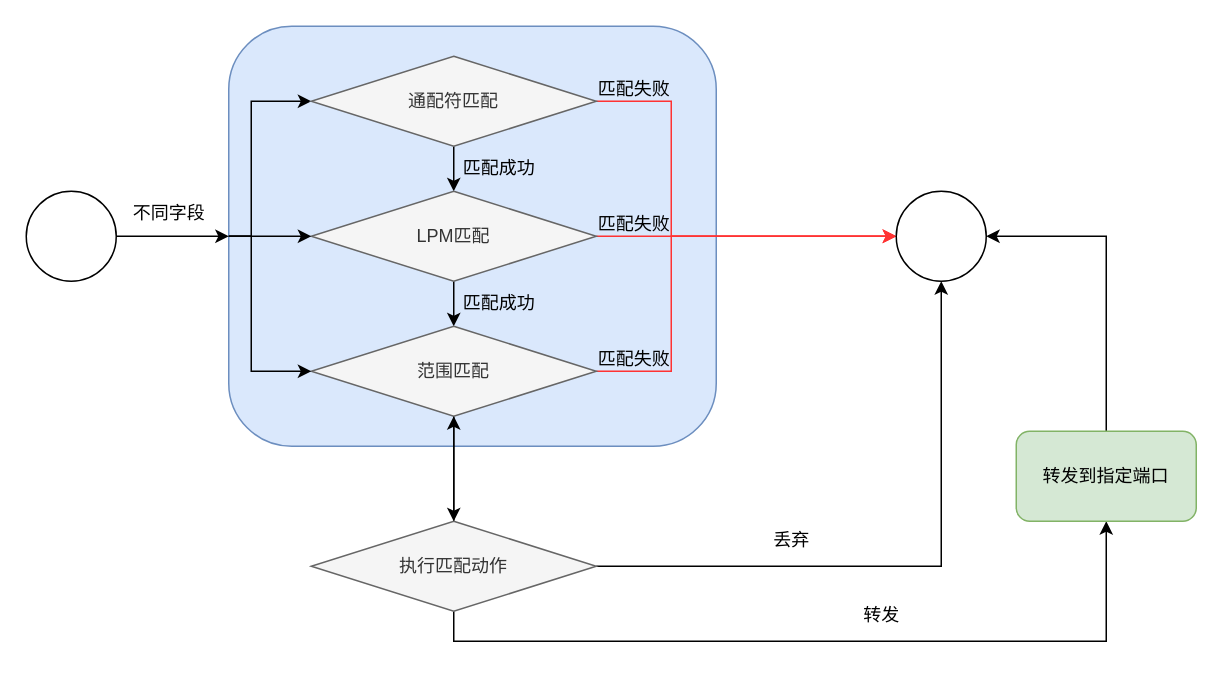
Image size: 1223x680. Some labels were removed from this diagram. Here are the shapes that lost their labels. From the top down, the centre of each, then its label:
point (70, 235): 开始
point (940, 235): 结束
